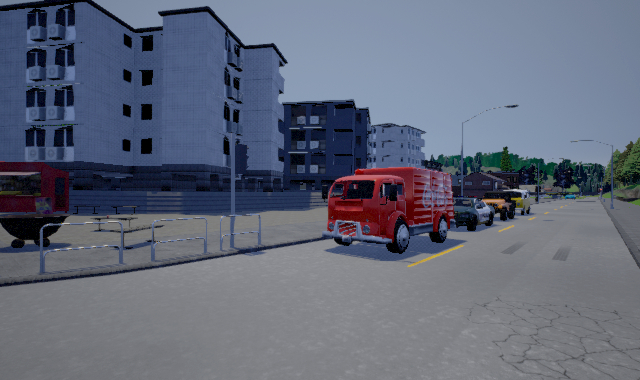vehicle: (322, 167, 454, 254), (444, 197, 496, 232), (477, 189, 517, 222), (499, 189, 532, 213)
